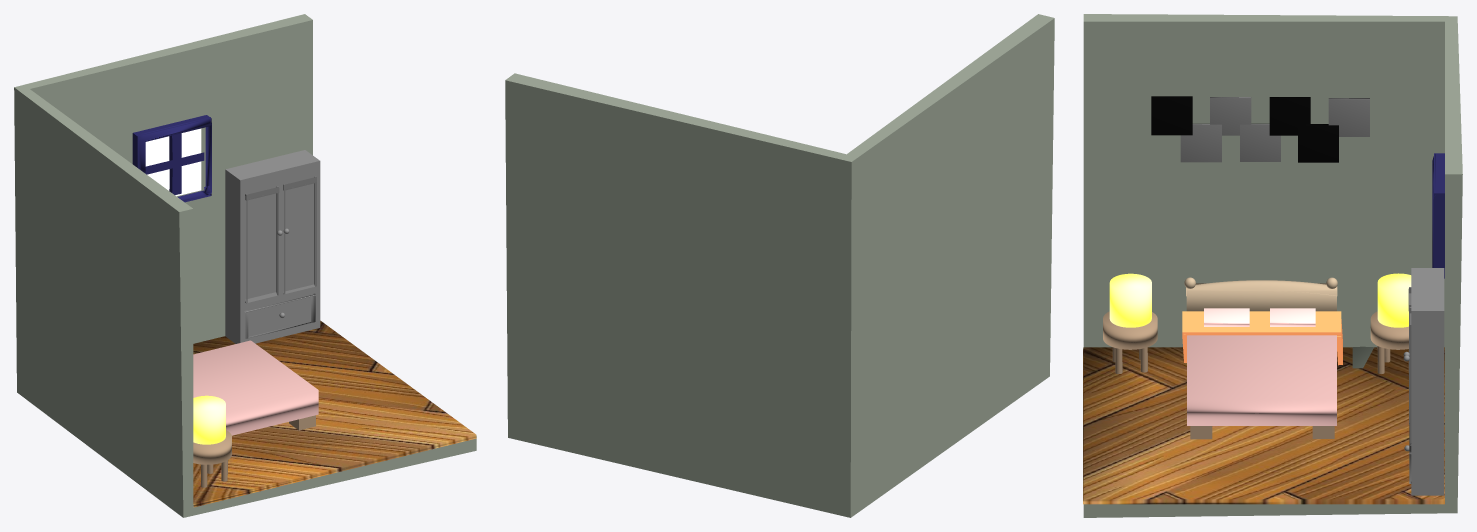
Rendered from myhomeOne.glb.
3 views of the same model, side by side, from view 1: azimuth 30°, elevation 25°; view 2: azimuth 150°, elevation 25°; view 3: azimuth 270°, elevation 25° (orthographic). The views are drawn at different scales.
Parts seen in each view (by area): view 1: Cube.028, Cube.001, Cube.016, Cube.002, Cube.027, Cube.014, Cylinder.005, Cube.015, Cylinder, Cube.017, Cube.018, Cube.013 (+1 smaller); view 2: Cube.028; view 3: Cube.028, Cube.001, Cube.002, Cube.016, Cube.007, Cube.009, Cylinder.005, Cylinder.011, Cube.020, Cube.025, Cube.021, Cube.026 (+9 smaller).
Part boxes in pixels (<box>): Cube.028: <box>14,14,476,517</box>; Cube.001: <box>193,320,476,507</box>; Cube.016: <box>225,150,320,343</box>; Cube.002: <box>193,340,318,435</box>; Cube.027: <box>145,128,201,196</box>; Cube.014: <box>137,117,211,200</box>; Cylinder.005: <box>193,395,225,444</box>; Cube.015: <box>145,133,204,194</box>; Cylinder: <box>193,430,231,464</box>; Cube.017: <box>245,186,279,303</box>; Cube.018: <box>283,176,316,294</box>; Cube.013: <box>132,115,211,202</box>; Cube.028: <box>505,14,1054,517</box>; Cube.028: <box>1083,14,1462,517</box>; Cube.001: <box>1083,346,1444,504</box>; Cube.002: <box>1187,335,1336,425</box>; Cube.016: <box>1411,268,1444,495</box>; Cube.007: <box>1186,283,1336,311</box>; Cube.009: <box>1182,311,1341,336</box>; Cylinder.005: <box>1109,273,1151,327</box>; Cylinder.011: <box>1377,273,1411,327</box>; Cube.020: <box>1151,96,1192,135</box>; Cube.025: <box>1298,124,1338,162</box>; Cube.021: <box>1180,123,1221,162</box>; Cube.026: <box>1328,98,1369,136</box>.
Size of the model in its own units: 7.44 by 7.44 by 7.45.
46 materials, 1 textured.
